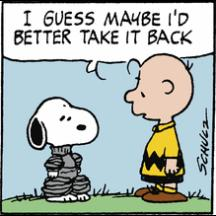charlie: (122, 52, 194, 203)
snoopy: (25, 97, 101, 203)
